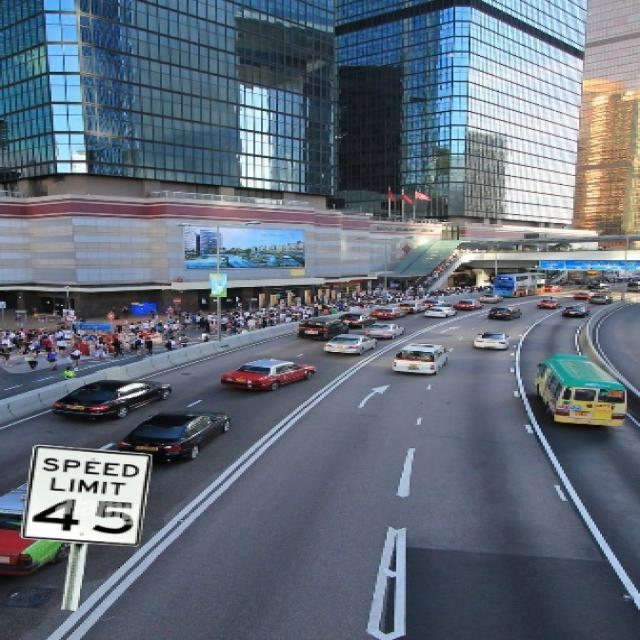speedLimit45: (19, 444, 152, 611)
